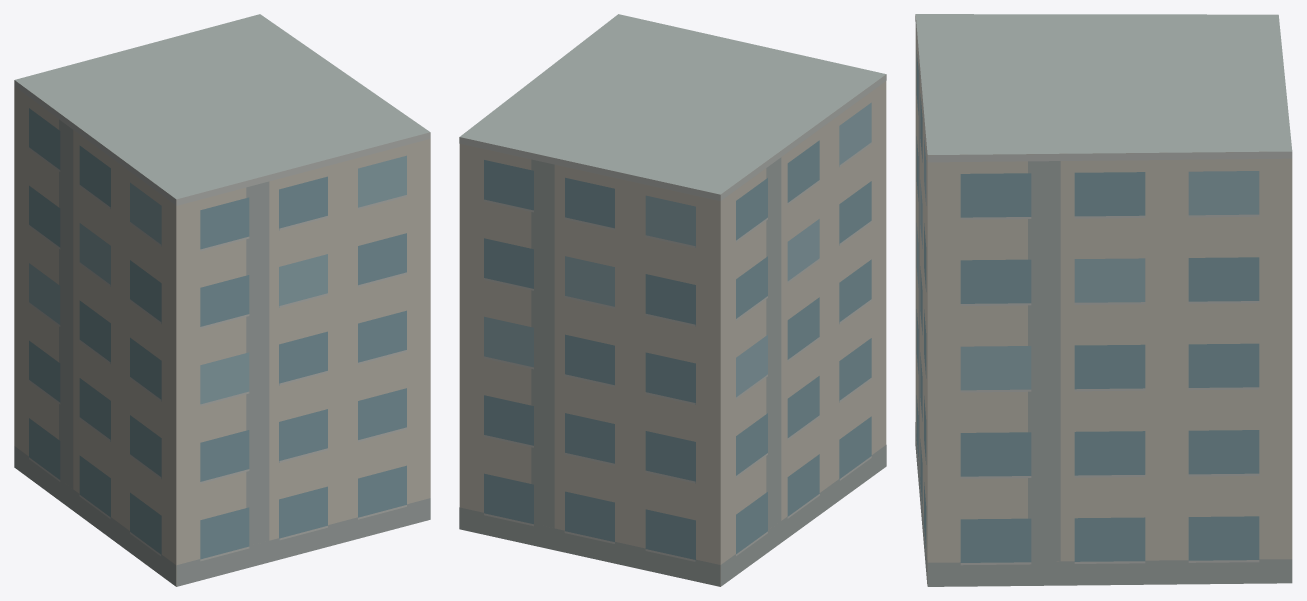
The model's file is survey-upis-32769798.glb.
3 views of the same model, side by side, from view 1: azimuth 30°, elevation 25°; view 2: azimuth 150°, elevation 25°; view 3: azimuth 270°, elevation 25° (orthographic). The views are drawn at different scales.
Parts seen in each view (by area): view 1: survey-upis-32769798.tmp; view 2: survey-upis-32769798.tmp; view 3: survey-upis-32769798.tmp.
Part boxes in pixels (x1,y1,x2,y2): survey-upis-32769798.tmp: [14, 14, 430, 586]; survey-upis-32769798.tmp: [459, 14, 886, 586]; survey-upis-32769798.tmp: [915, 14, 1292, 586].
Bounding box in the file's own units: 10.18 × 14.5 × 11.48.
